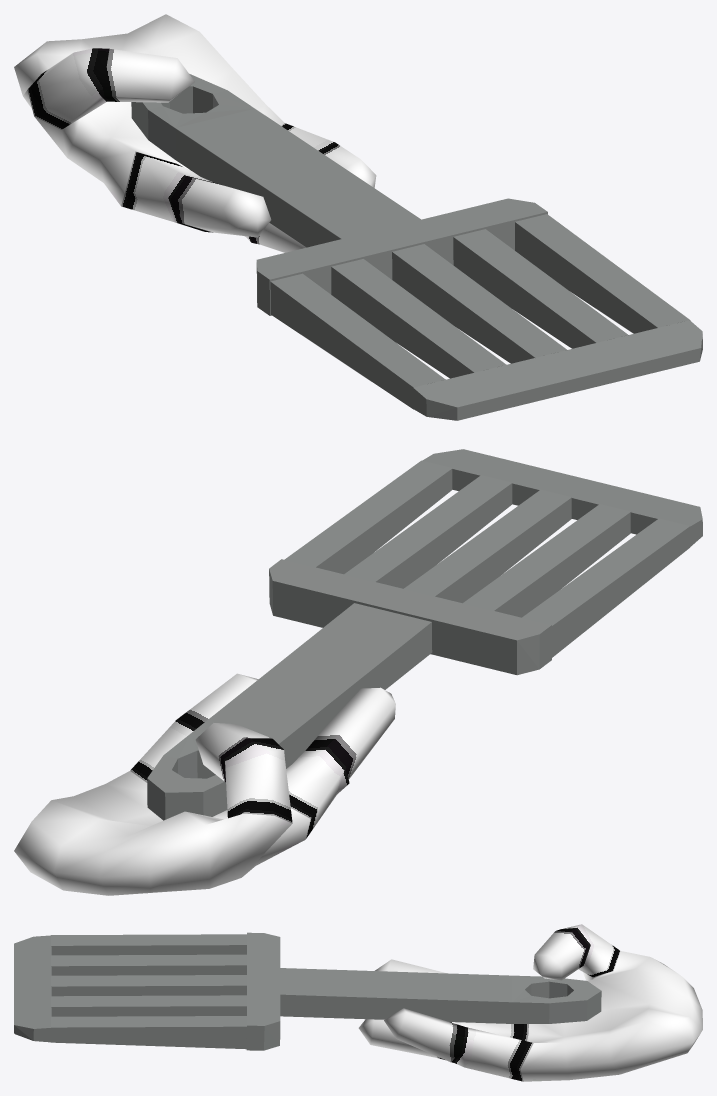
File: grim_mano.obj
3 renders of one model, top to bottom at view 1: azimuth 30°, elevation 25°; view 2: azimuth 150°, elevation 25°; view 3: azimuth 270°, elevation 25°, orthographic. The views are drawn at different scales.
Parts seen in each view (by area): view 1: grim_mano1:Mesh; view 2: grim_mano1:Mesh; view 3: grim_mano1:Mesh.
Part boxes in pixels (bbox=[...]): grim_mano1:Mesh: bbox=[14, 14, 702, 420]; grim_mano1:Mesh: bbox=[14, 449, 702, 895]; grim_mano1:Mesh: bbox=[14, 924, 702, 1081].
Size of the model in its own units: 0.0893 by 0.0489 by 0.2799.
2 materials, 2 textured.
